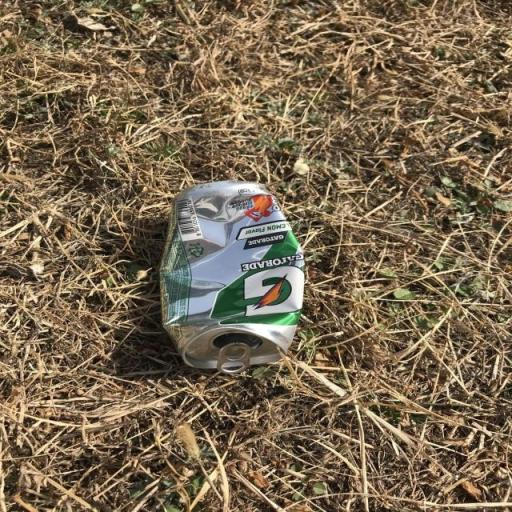metal: (137, 160, 314, 392)
